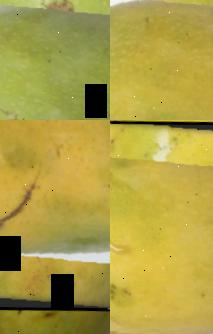PartiallyRipe: (110, 120, 213, 334), (0, 120, 110, 315), (110, 0, 213, 120)
Unripe: (0, 0, 110, 120)
